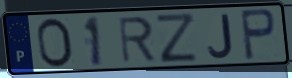1: (82, 15, 106, 67)
J: (206, 13, 235, 60)
O: (35, 16, 76, 70)
P: (238, 7, 278, 62)
R: (116, 14, 158, 65)
Z: (154, 12, 199, 65)
